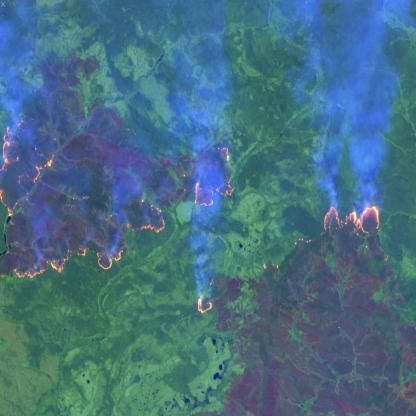fire: (0, 119, 241, 320), (317, 192, 390, 241)
